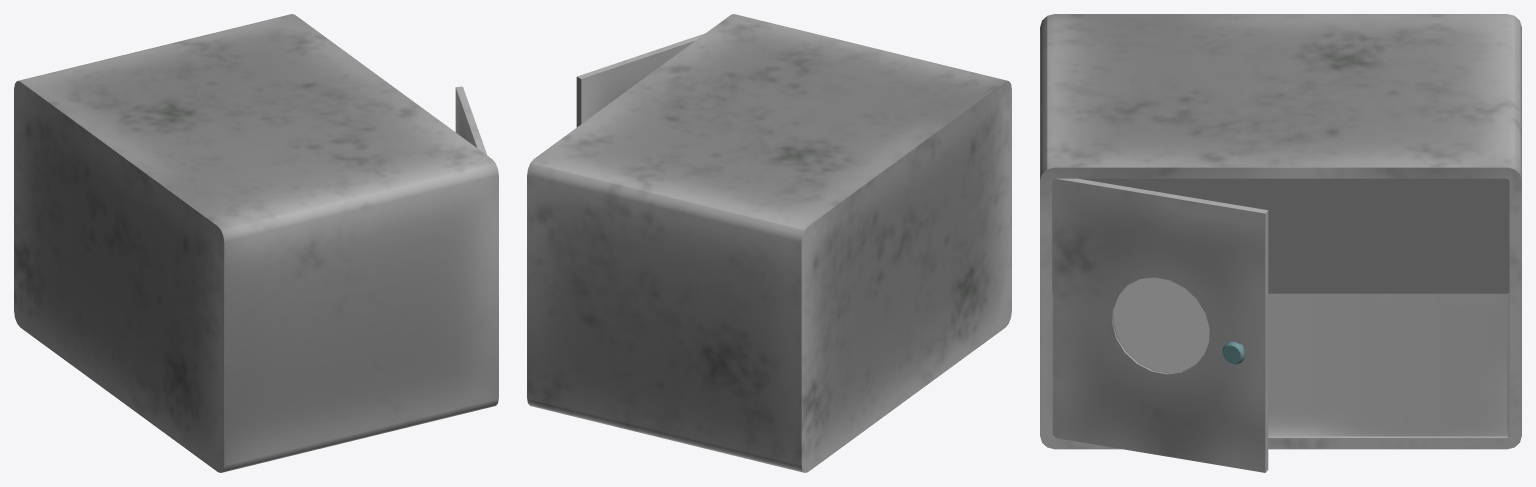
Rendered from Bathroom_DolapAlt.fbx.
3 renders of one model, left to right at view 1: azimuth 30°, elevation 25°; view 2: azimuth 150°, elevation 25°; view 3: azimuth 270°, elevation 25°, orthographic. The views are drawn at different scales.
Parts seen in each view (by area): view 1: Cube.004, Cube.011; view 2: Cube.004, Cube.011; view 3: Cube.004, Cube.011.
Boxes of the visible parts, x1=… form: Cube.004: x1=14, y1=14, x2=498, y2=472; Cube.011: x1=455, y1=86, x2=486, y2=154; Cube.004: x1=527, y1=14, x2=1011, y2=472; Cube.011: x1=576, y1=33, x2=704, y2=127; Cube.004: x1=1040, y1=14, x2=1521, y2=449; Cube.011: x1=1052, y1=178, x2=1268, y2=472.
Bounding box in the file's own units: 111 × 75.31 × 117.
2 materials, 2 textured.
